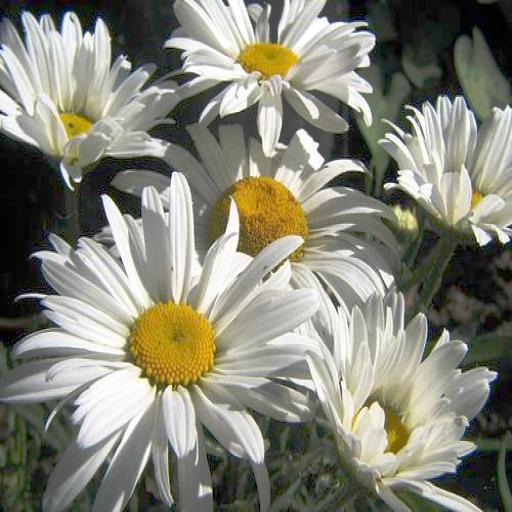daisy: (2, 192, 309, 493), (121, 130, 390, 316), (312, 292, 497, 512), (385, 92, 512, 243)
